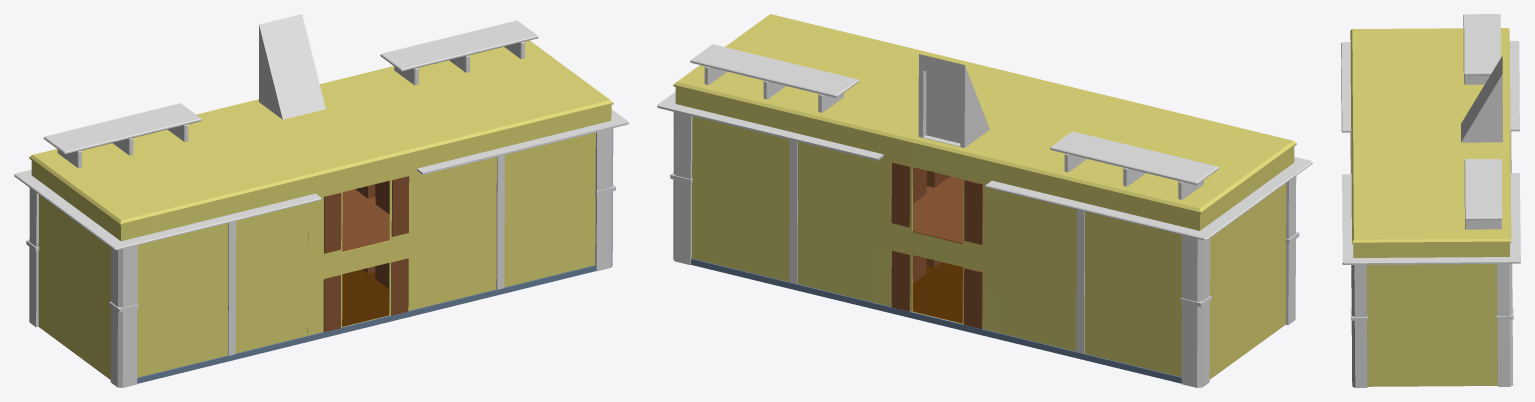
The model's file is mairie(taille changer).fbx.
The picture shows the model from 3 angles, left to right: view 1: azimuth 30°, elevation 25°; view 2: azimuth 150°, elevation 25°; view 3: azimuth 270°, elevation 25°; orthographic projection. The views are drawn at different scales.
Parts seen in each view (by area): view 1: M.Mairie.LP.001; view 2: M.Mairie.LP.001; view 3: M.Mairie.LP.001.
Boxes of the visible parts, x1,y1,x2,y2 form: M.Mairie.LP.001: (14,14,628,387); M.Mairie.LP.001: (657,14,1312,387); M.Mairie.LP.001: (1341,14,1520,387).
Size of the model in its own units: 3965 by 1806 by 1360.
